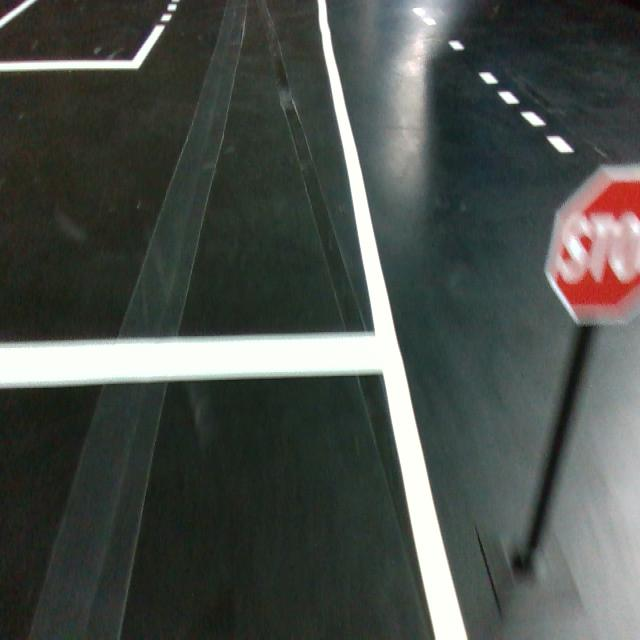stop-sign: (542, 160, 640, 327)
